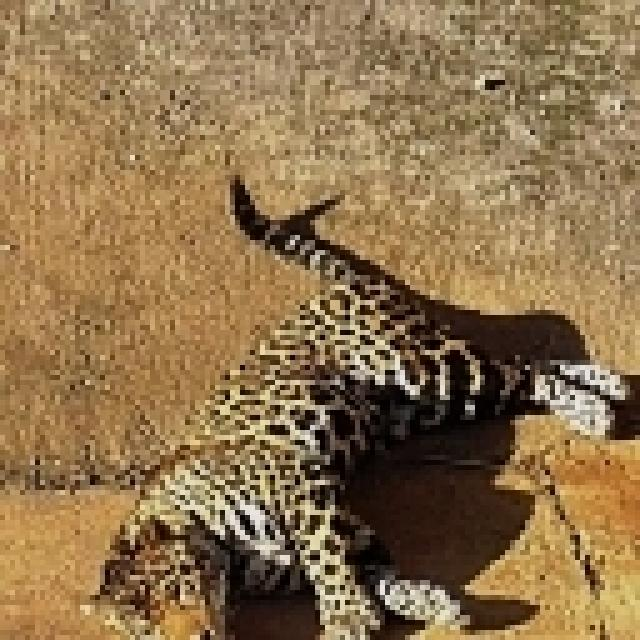Leopard: (75, 145, 630, 630)
